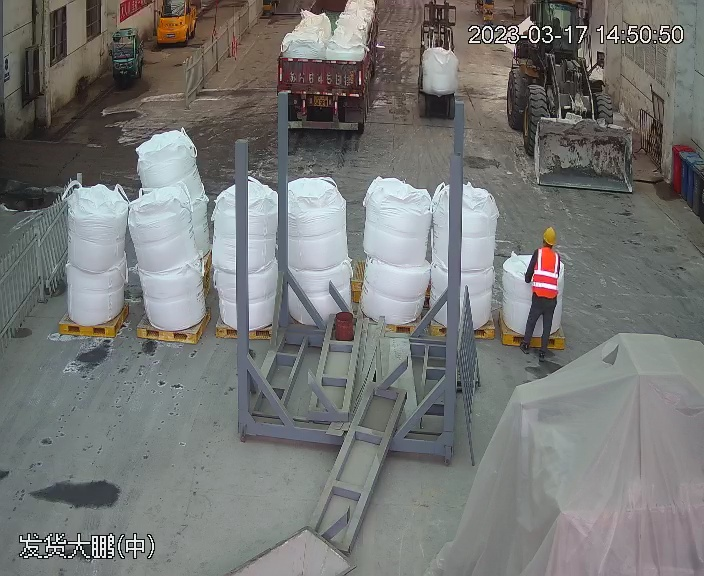head: (531, 226, 561, 265)
helmet: (542, 226, 557, 245)
people: (515, 226, 565, 345)
truck: (273, 0, 387, 130)
